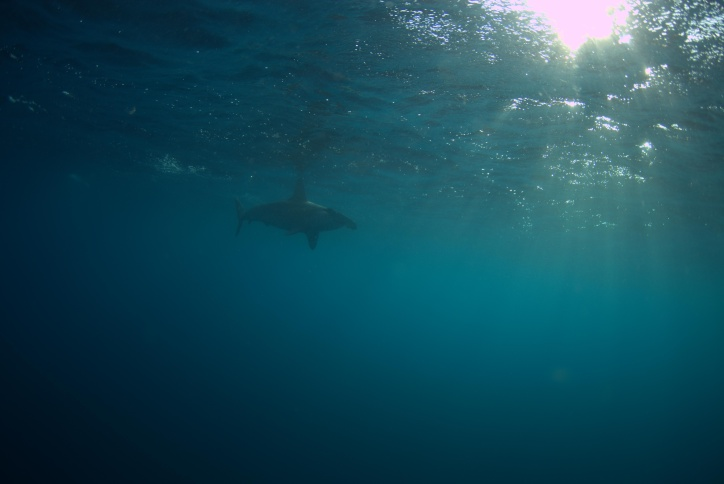Hammer: (220, 163, 379, 262)
